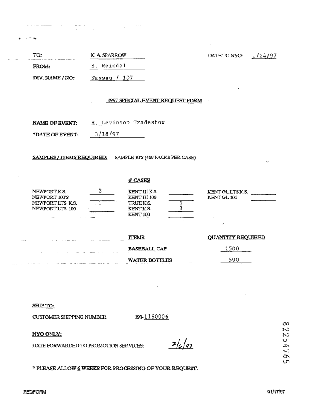textline: (89, 131, 146, 139), (89, 52, 146, 59), (89, 63, 146, 70), (89, 75, 146, 82), (89, 120, 146, 127), (166, 338, 194, 349), (219, 246, 252, 253), (219, 257, 252, 264), (88, 188, 115, 196), (250, 52, 277, 59), (88, 194, 115, 201), (88, 200, 115, 207), (88, 206, 115, 213), (167, 189, 194, 196), (167, 194, 194, 201), (167, 200, 194, 207), (167, 206, 194, 213), (167, 211, 194, 218), (249, 189, 276, 196), (249, 194, 276, 201), (143, 314, 169, 321)
